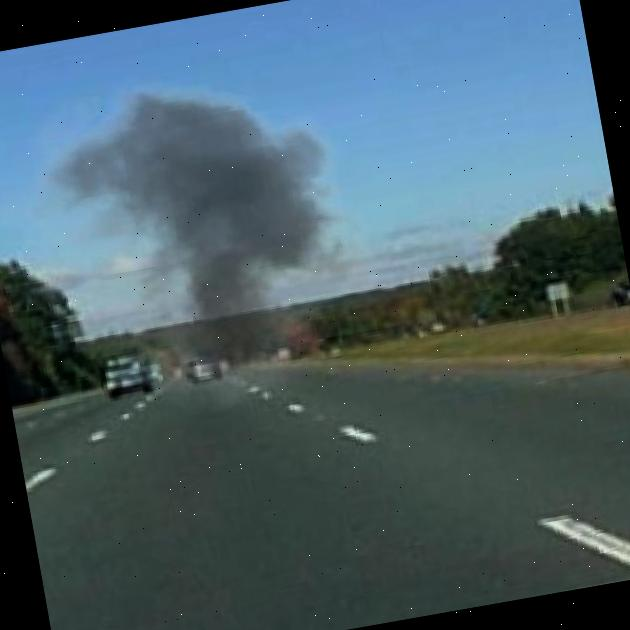smoke: (33, 43, 386, 408)
